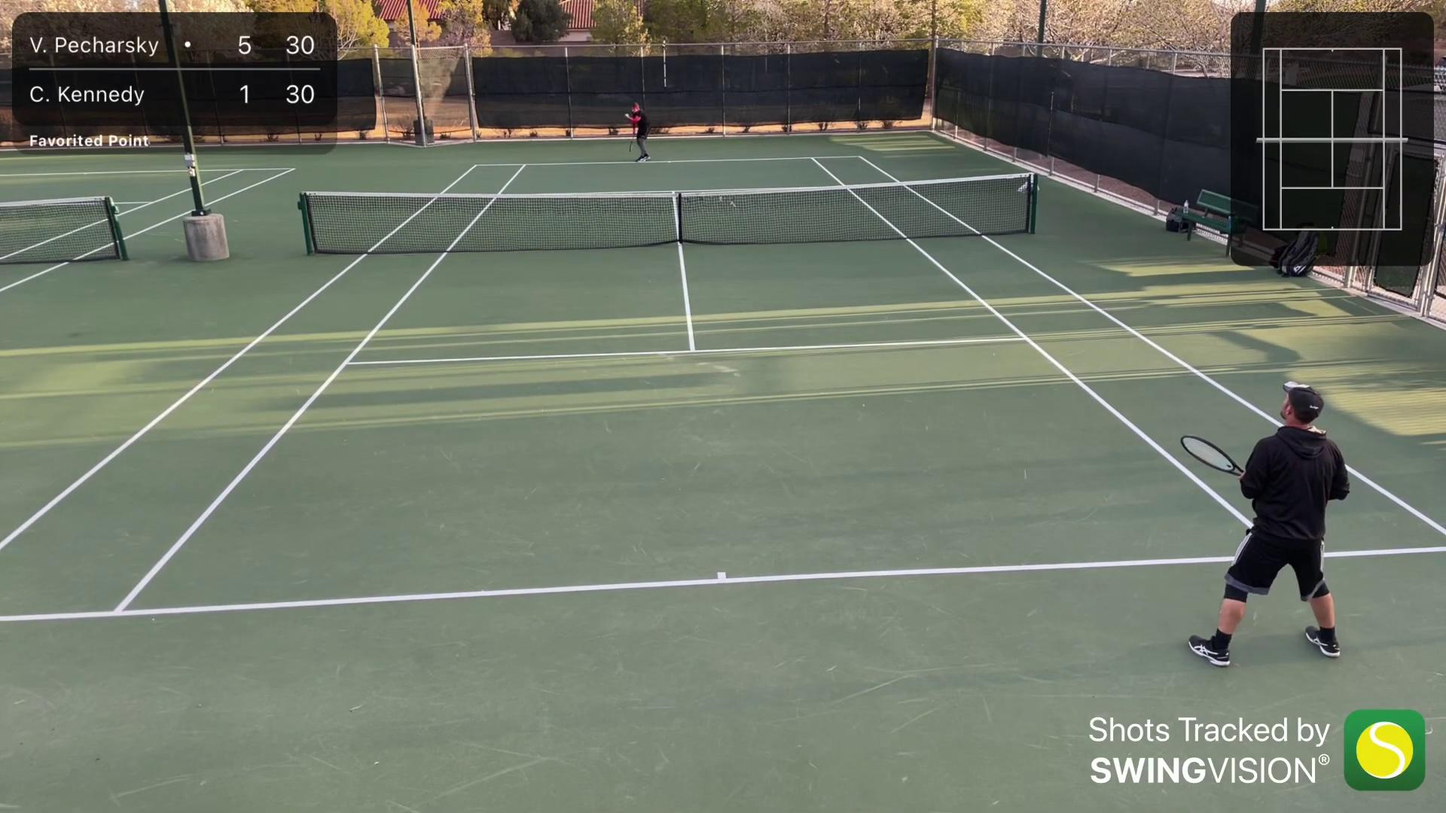ball: (624, 113, 629, 117)
